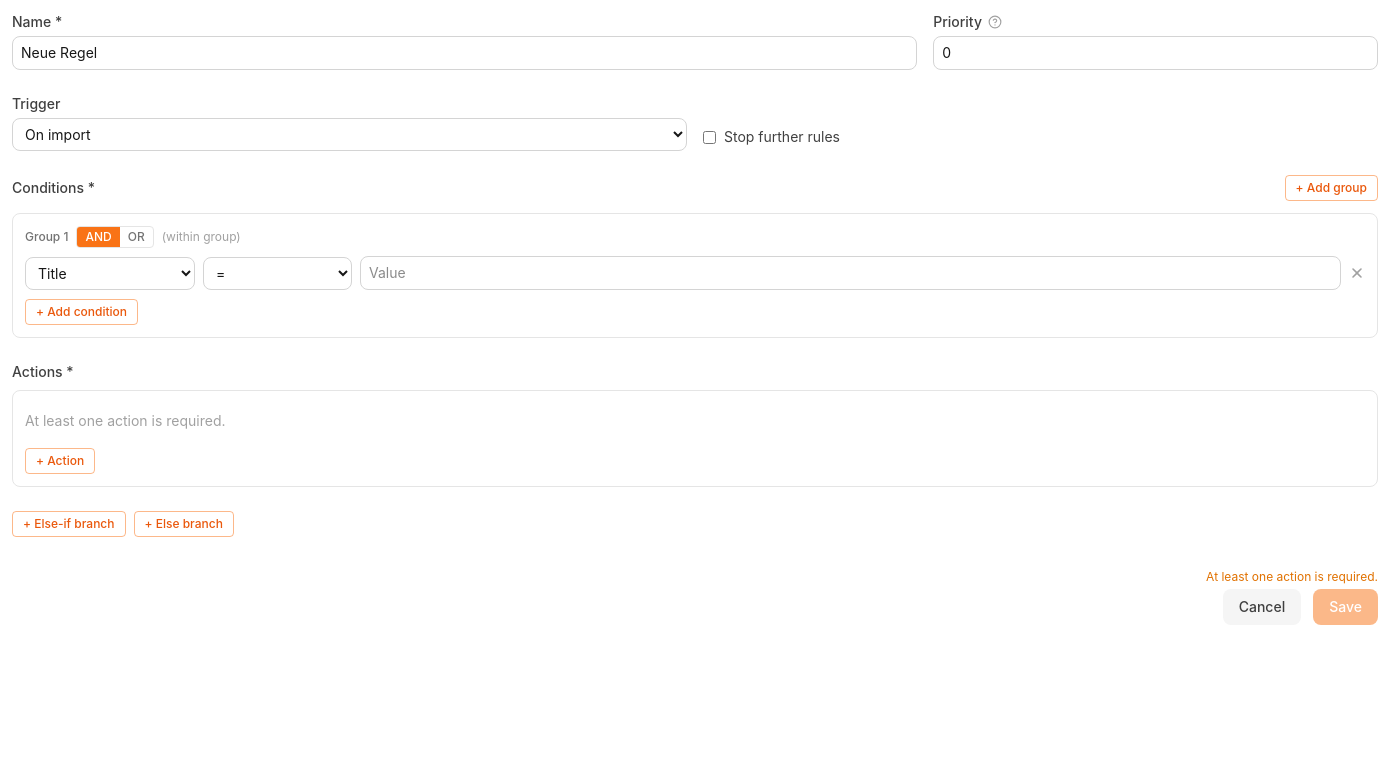
Test: RuleEditor sport tuple controls › localizes condition field and enum option labels without changing stored values
This screenshot has width=1390, height=780.
Select "Activity" in the 2nd dropdown showing "Title" at (110, 273), box [25, 256, 195, 290]
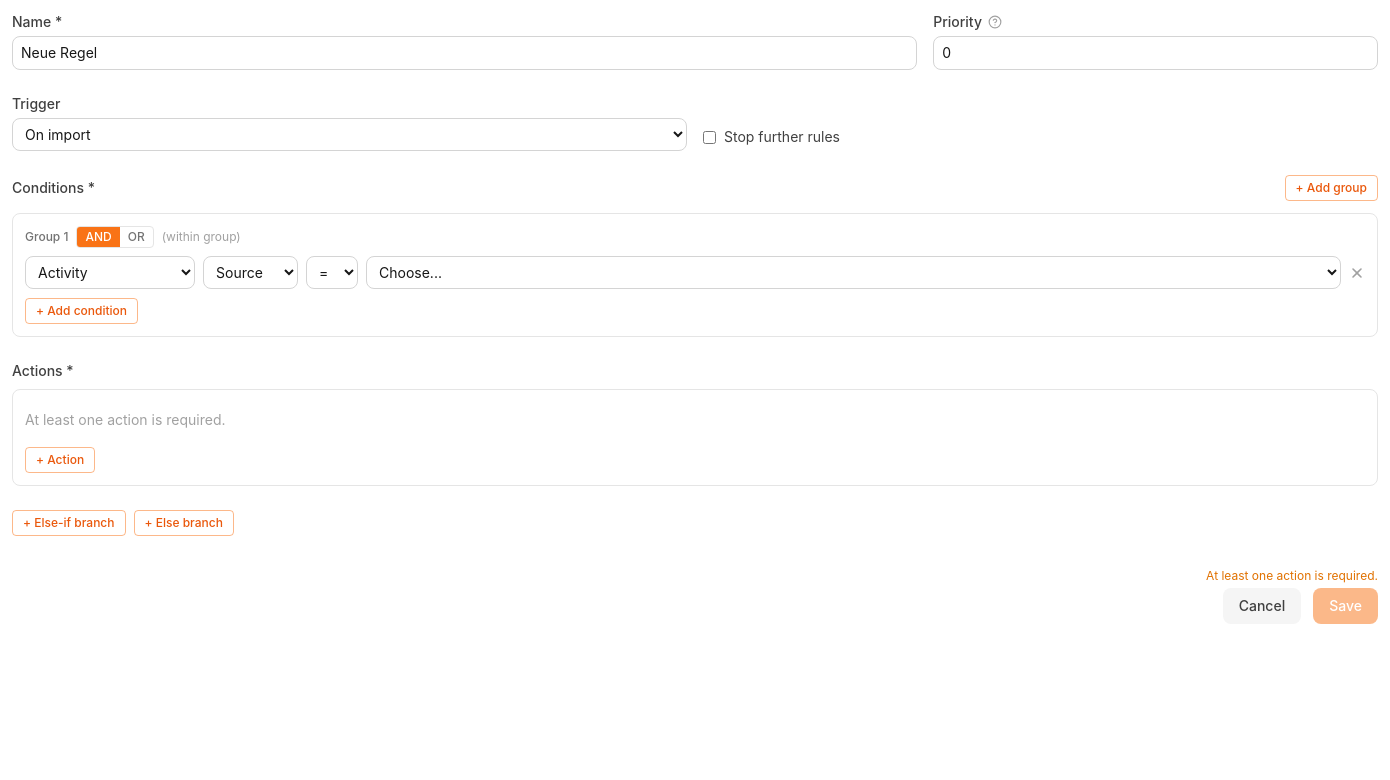
Expected: the 3rd dropdown showing "Source" is shown, [203, 256, 298, 289]
